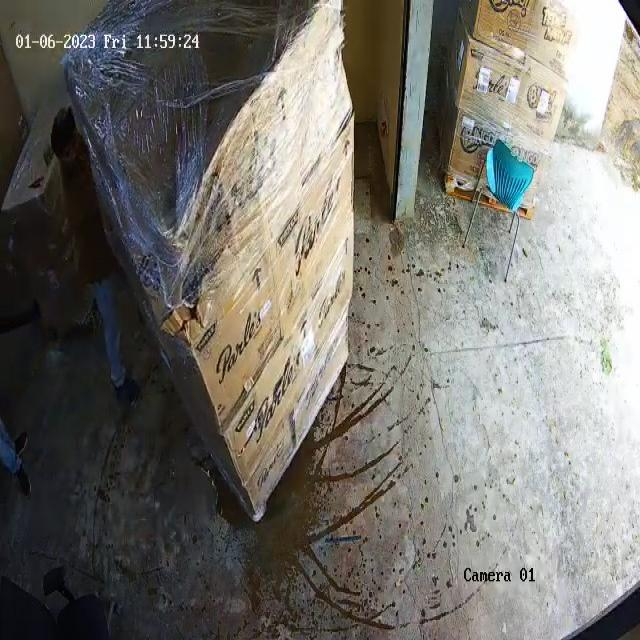leakage: (146, 270, 227, 344)
squeeze: (94, 72, 218, 234)
